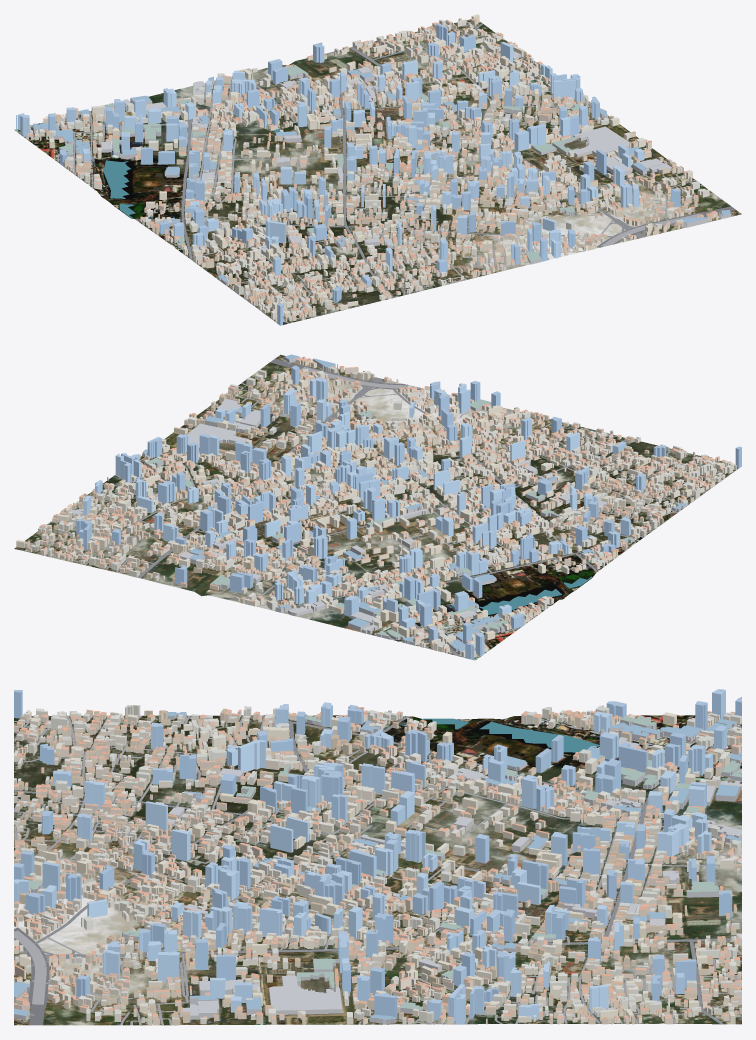
The picture shows the model from 3 angles, top to bottom: view 1: azimuth 30°, elevation 25°; view 2: azimuth 150°, elevation 25°; view 3: azimuth 270°, elevation 25°; orthographic projection. The views are drawn at different scales.
Visible parts, largest first — view 1: BLDG_TUBE_SHOPHOUSE, TERRAIN, BLDG_MODERN_TOWER, BLDG_APARTMENT, BLDG_INDUSTRIAL_PORT, ROAD_METRO, WATER; view 2: BLDG_TUBE_SHOPHOUSE, BLDG_MODERN_TOWER, TERRAIN, BLDG_APARTMENT, BLDG_INDUSTRIAL_PORT, ROAD_METRO, WATER; view 3: BLDG_TUBE_SHOPHOUSE, BLDG_MODERN_TOWER, TERRAIN, BLDG_APARTMENT, BLDG_INDUSTRIAL_PORT, ROAD_METRO, WATER.
Boxes of the visible parts, box(x1,y1,x2,y2) form: BLDG_TUBE_SHOPHOUSE: box(20, 18, 718, 321); TERRAIN: box(14, 19, 741, 324); BLDG_MODERN_TOWER: box(16, 23, 680, 325); BLDG_APARTMENT: box(34, 14, 705, 321); BLDG_INDUSTRIAL_PORT: box(33, 51, 730, 285); ROAD_METRO: box(18, 21, 735, 323); WATER: box(103, 129, 280, 217); BLDG_TUBE_SHOPHOUSE: box(24, 356, 731, 657); BLDG_MODERN_TOWER: box(76, 365, 741, 660); TERRAIN: box(14, 354, 738, 660); BLDG_APARTMENT: box(16, 370, 736, 652); BLDG_INDUSTRIAL_PORT: box(70, 354, 687, 654); ROAD_METRO: box(24, 359, 737, 657); WATER: box(345, 565, 591, 614); BLDG_TUBE_SHOPHOUSE: box(14, 707, 741, 1025); BLDG_MODERN_TOWER: box(14, 689, 741, 1024); TERRAIN: box(14, 715, 741, 1025); BLDG_APARTMENT: box(19, 705, 741, 1024); BLDG_INDUSTRIAL_PORT: box(14, 712, 741, 1024); ROAD_METRO: box(14, 715, 741, 1025); WATER: box(421, 718, 599, 752).
Size of the model in its own units: 2000 by 98.53 by 2000.
Materials: 7 (1 with a texture image).
